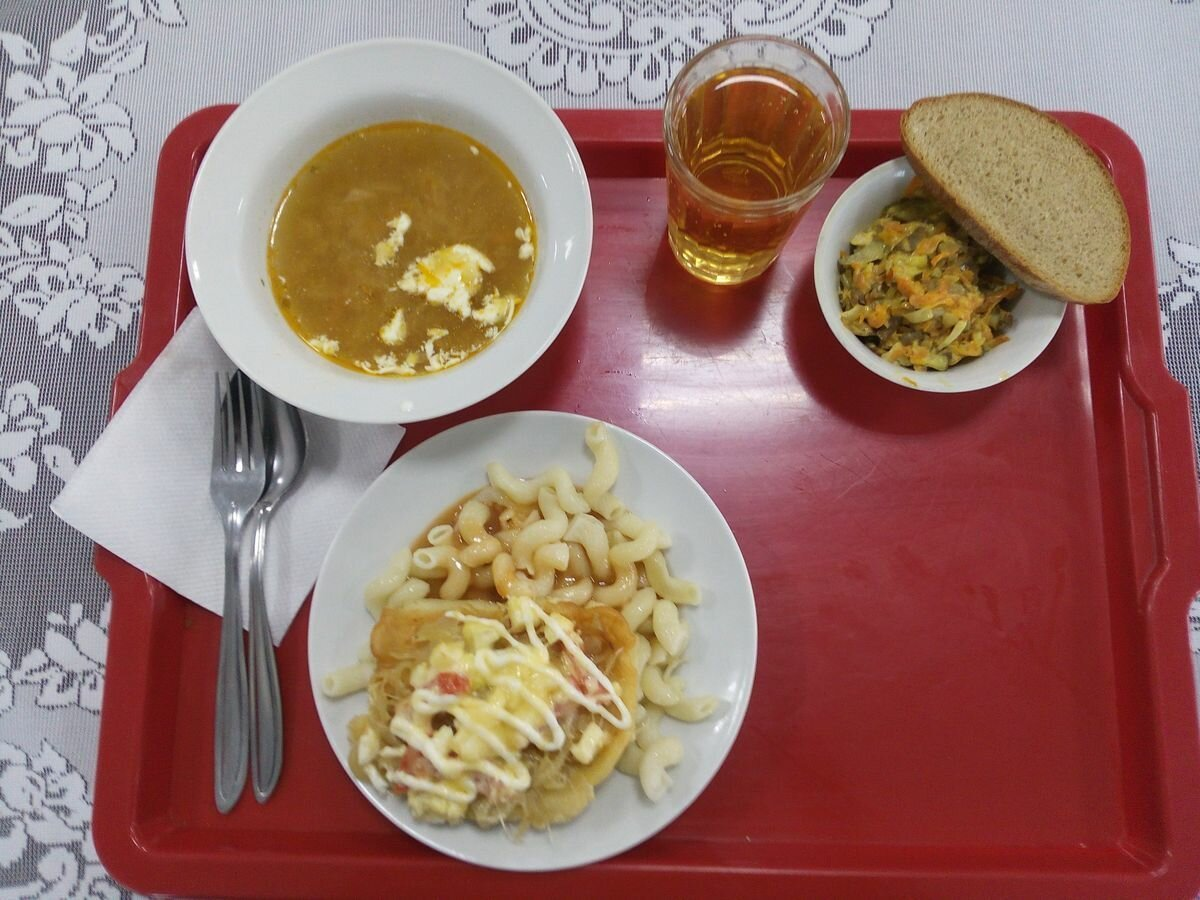bowl: (183, 38, 596, 428), (815, 151, 1072, 393)
cutlery: (206, 368, 309, 824)
drink: (663, 37, 850, 306)
other: (904, 93, 1131, 304)
plate: (311, 410, 757, 876)
